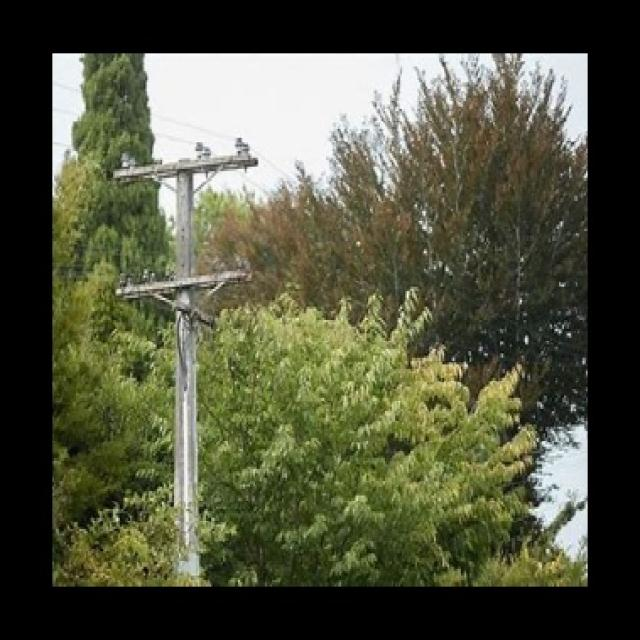utility poles: (106, 115, 267, 581)
